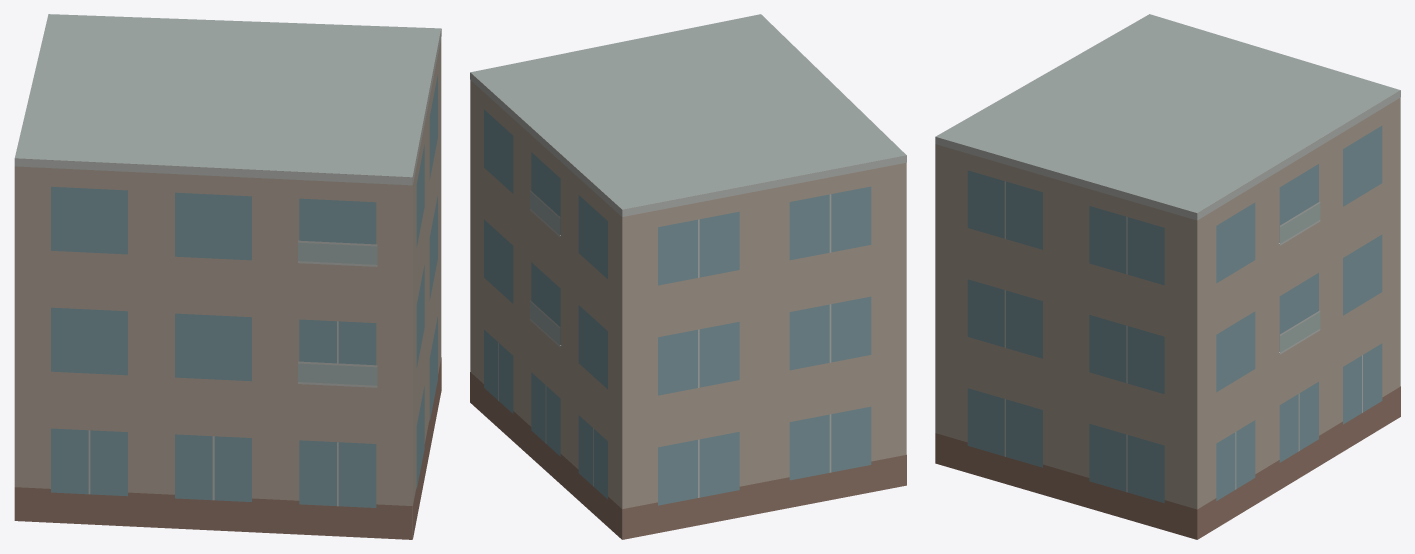
File: survey-upis-32832214.glb
3 views of the same model, side by side, from view 1: azimuth 30°, elevation 25°; view 2: azimuth 150°, elevation 25°; view 3: azimuth 270°, elevation 25° (orthographic). The views are drawn at different scales.
Parts seen in each view (by area): view 1: survey-upis-32832214.tmp; view 2: survey-upis-32832214.tmp; view 3: survey-upis-32832214.tmp.
Boxes of the visible parts, x1,y1,x2,y2 form: survey-upis-32832214.tmp: (14, 14, 441, 539); survey-upis-32832214.tmp: (470, 14, 906, 539); survey-upis-32832214.tmp: (935, 14, 1400, 539).
Size of the model in its own units: 14.26 by 10.9 by 14.08.
